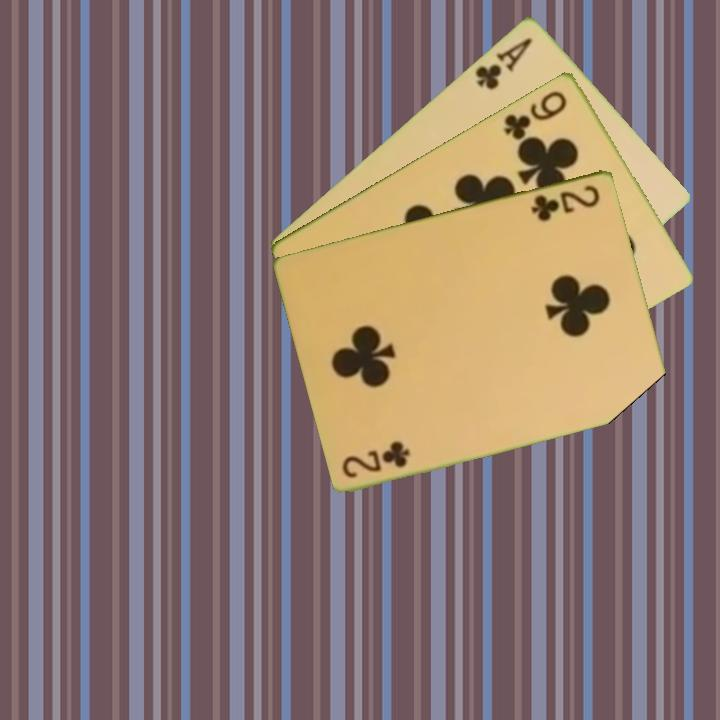2c: (528, 180, 603, 224), (339, 439, 413, 481)
9c: (500, 86, 570, 143)
Ac: (471, 33, 535, 92)
